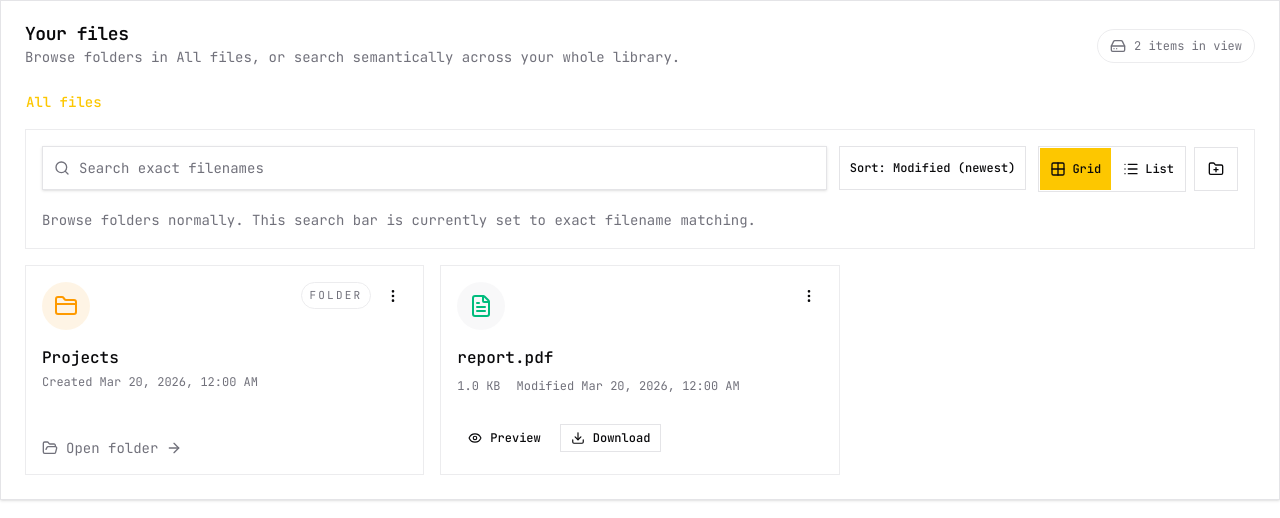
Test: FilesLibrary › clears stale file selection when a filename search starts
Click the button "List". click: (1149, 169)
box: [1112, 147, 1185, 191]
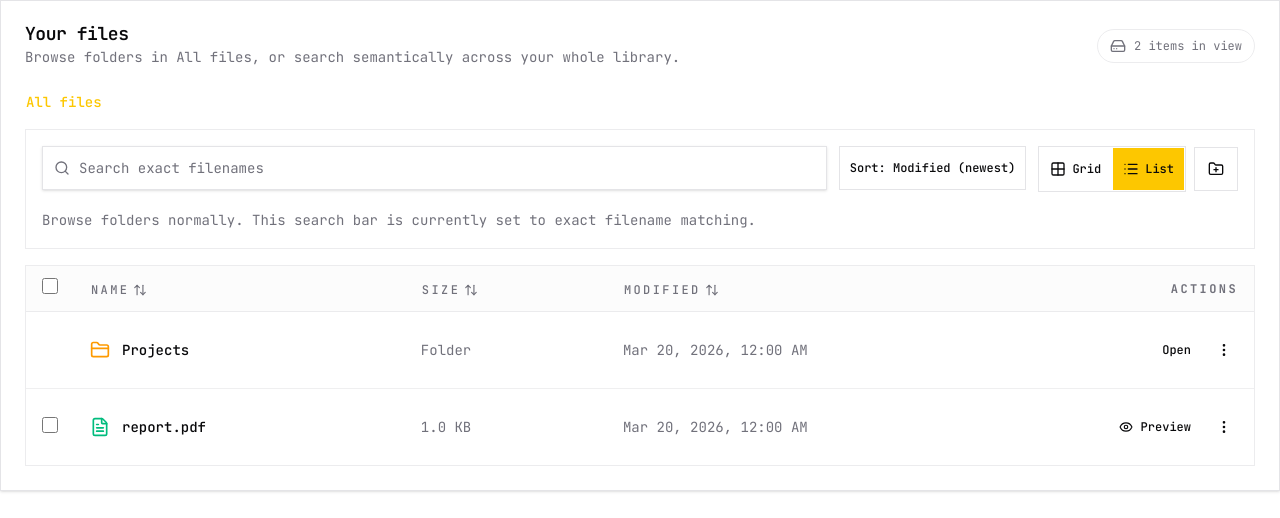
Click the checkbox named "Select report.pdf". click: (50, 424)
box: [42, 416, 58, 432]
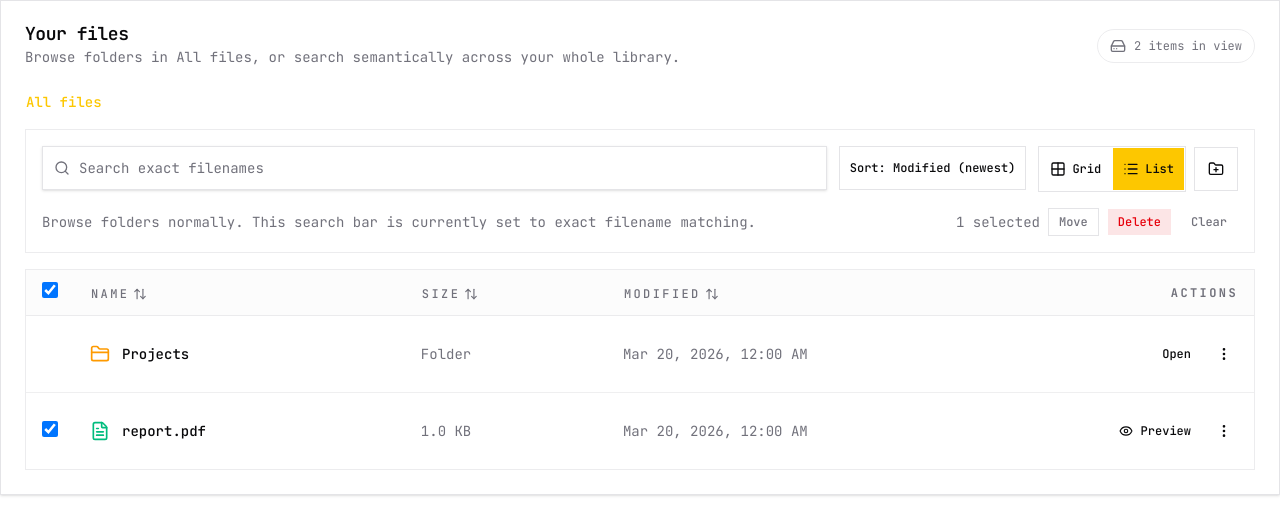
Now the text "1 selected" is shown, box [956, 212, 1040, 232]
Type "re" into the field named "Search filenames". click: (434, 168)
box: [42, 146, 827, 190]
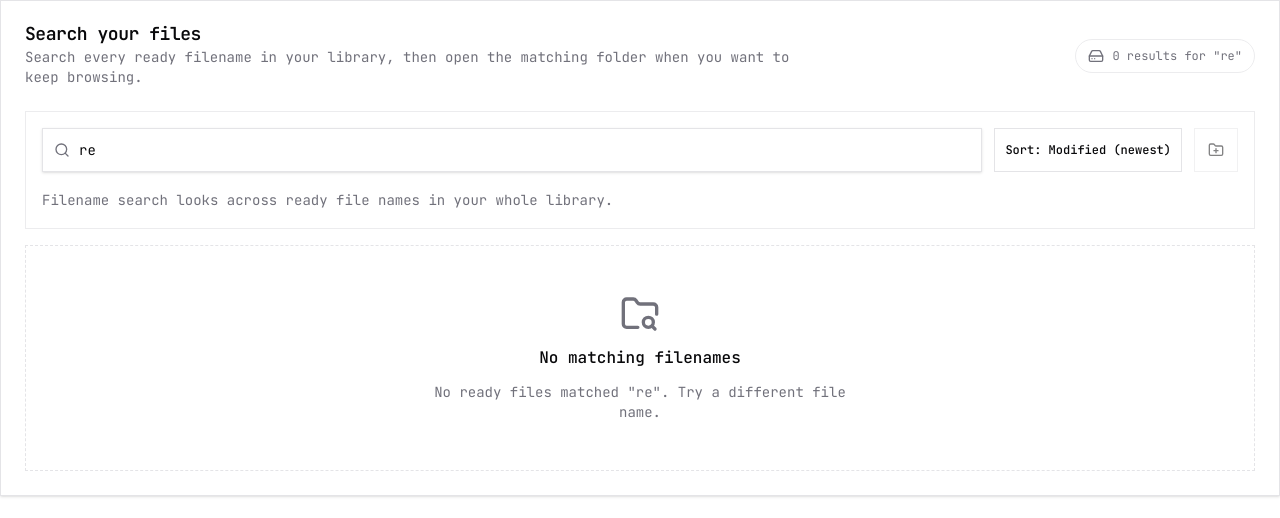
Now the text "1 selected" is gone
